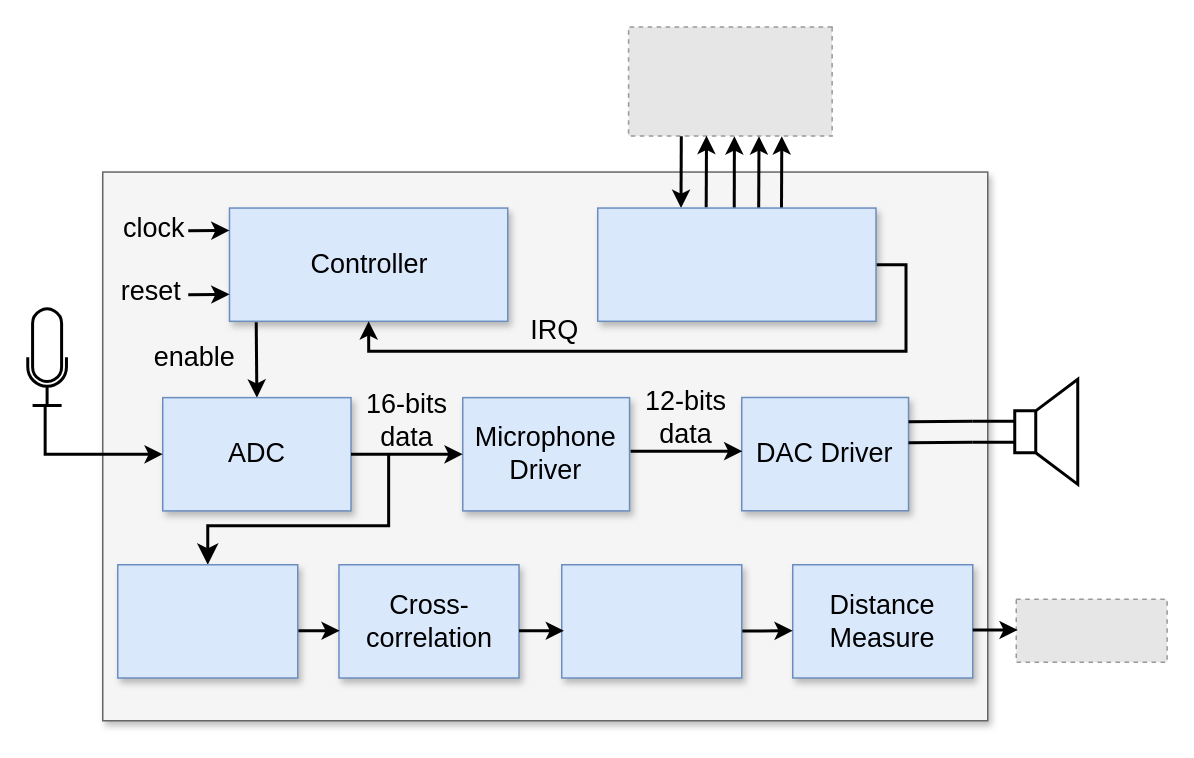
Image size: 1194x758. Some labels were removed from this diagram. Grey dashed boxes stand in for pictures. Here are the shapes that lost their labels. From the top down, the centre of each, then its label:
At point (737, 266): "SPI Driver".
At point (208, 622): "Demodulation".
At point (652, 622): "Peak Search".
